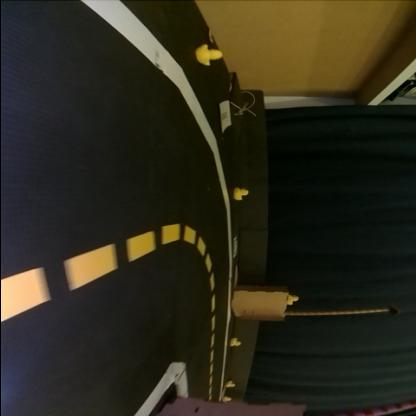Duckie: (196, 46, 222, 66), (233, 189, 248, 201), (289, 297, 297, 304), (231, 340, 240, 346), (224, 398, 232, 403), (227, 384, 235, 388)
QR code: (232, 236, 238, 258)
